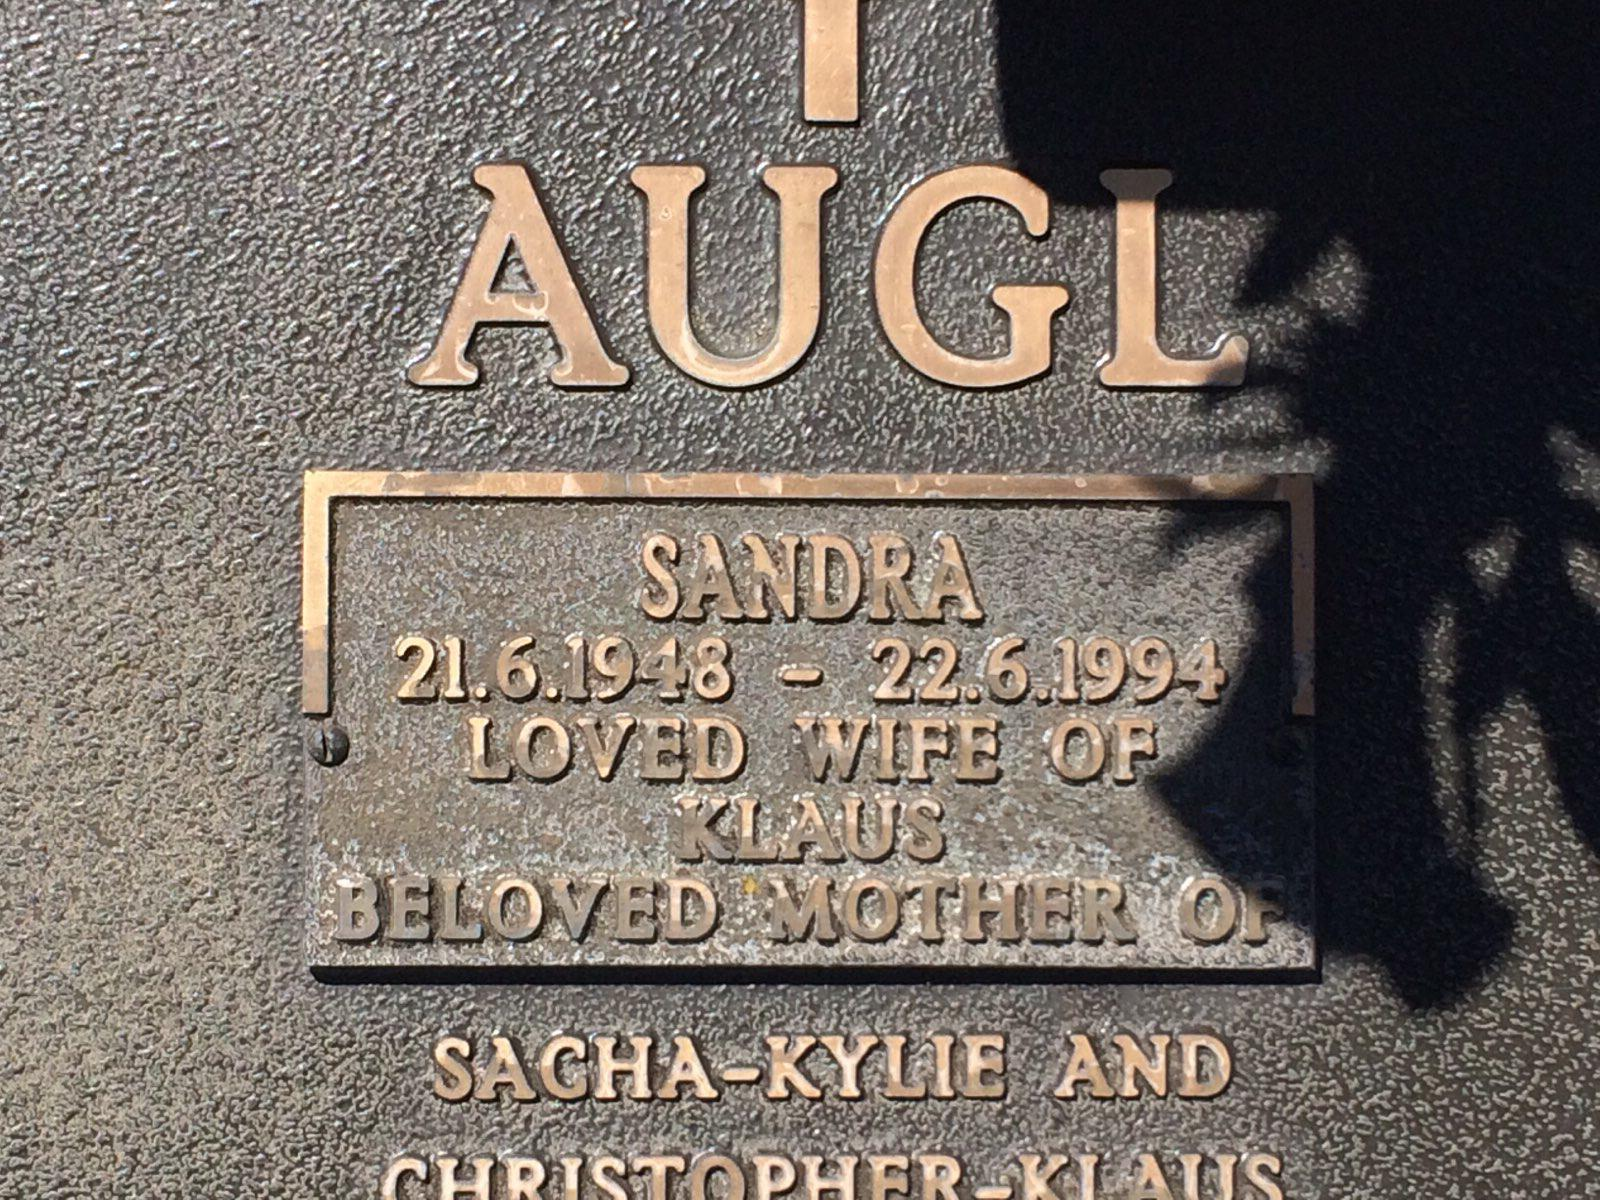plaque: (0, 4, 1600, 1195)
